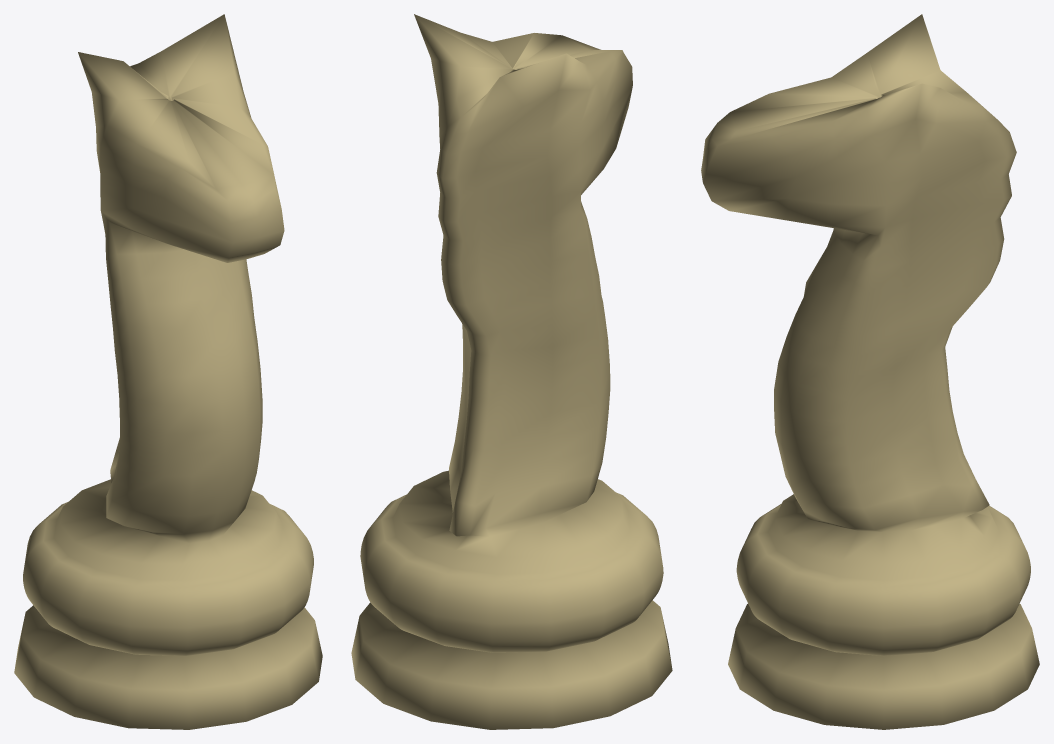
Rendered from Knight_piece.fbx.
3 views of the same model, side by side, from view 1: azimuth 30°, elevation 25°; view 2: azimuth 150°, elevation 25°; view 3: azimuth 270°, elevation 25° (orthographic). The views are drawn at different scales.
Parts seen in each view (by area): view 1: knight08; view 2: knight08; view 3: knight08.
Part boxes in pixels (x1,y1,x2,y2): knight08: [14, 14, 322, 729]; knight08: [351, 14, 672, 729]; knight08: [701, 14, 1039, 729].
Bounding box in the file's own units: 2.54 × 5.57 × 2.77.
